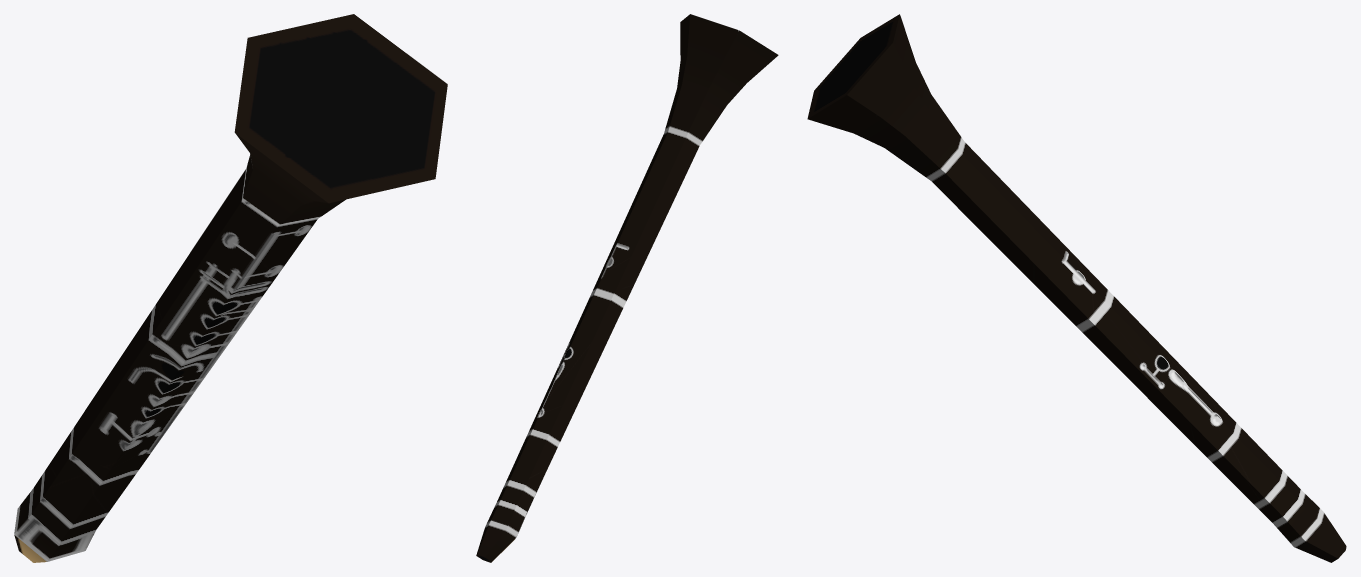
Rendered from Flauta3_000005.obj.
3 views of the same model, side by side, from view 1: azimuth 30°, elevation 25°; view 2: azimuth 150°, elevation 25°; view 3: azimuth 270°, elevation 25° (orthographic). The views are drawn at different scales.
Parts seen in each view (by area): view 1: flauta3_f3_Flauta_3:Flauta_2:Flauta_1:pCylinder3; view 2: flauta3_f3_Flauta_3:Flauta_2:Flauta_1:pCylinder3; view 3: flauta3_f3_Flauta_3:Flauta_2:Flauta_1:pCylinder3.
Part boxes in pixels (x1,y1,x2,y2): flauta3_f3_Flauta_3:Flauta_2:Flauta_1:pCylinder3: (14, 14, 447, 562); flauta3_f3_Flauta_3:Flauta_2:Flauta_1:pCylinder3: (476, 14, 778, 562); flauta3_f3_Flauta_3:Flauta_2:Flauta_1:pCylinder3: (807, 14, 1346, 562).
Bounding box in the file's own units: 1.25 × 4.58 × 4.42.
